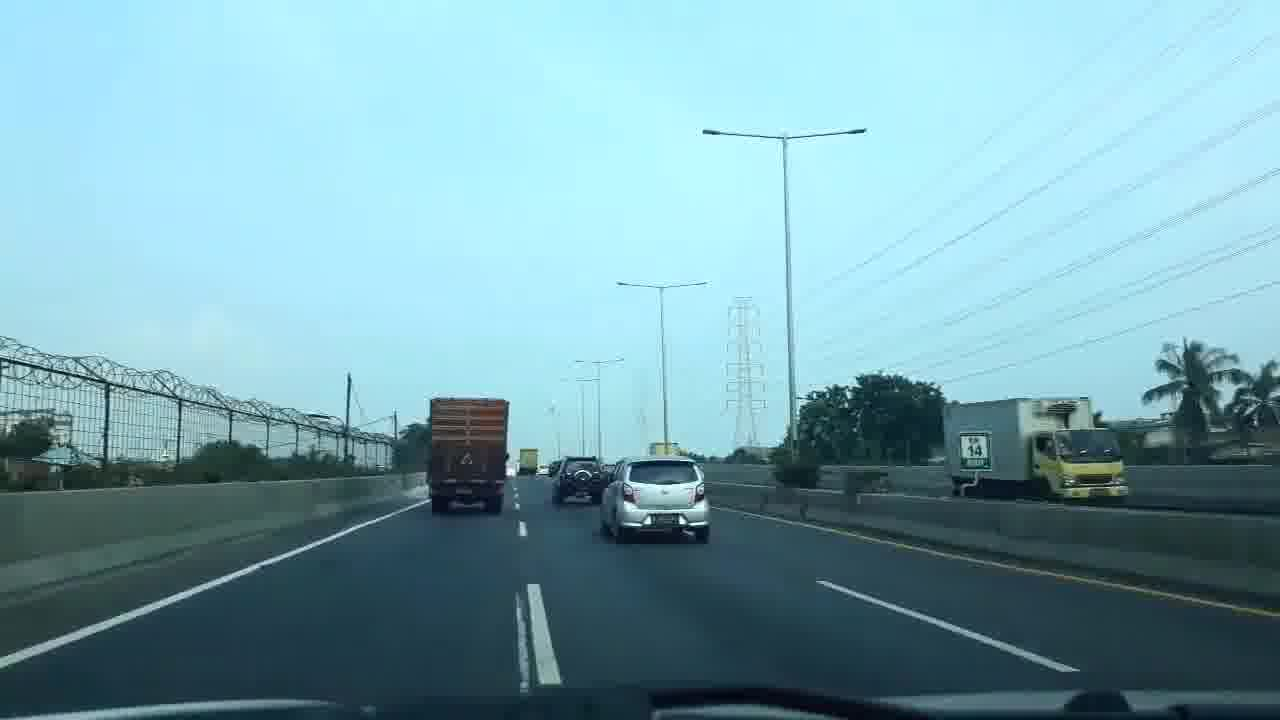plate_positive: (651, 514, 680, 526)
